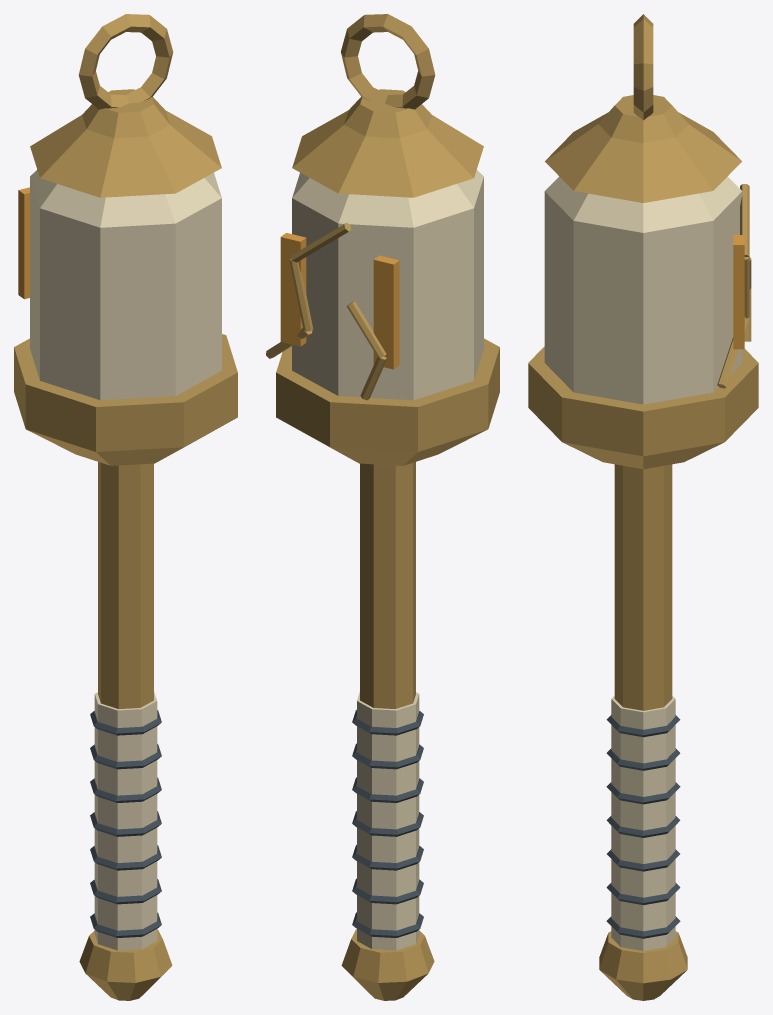
Rendered from DawnBearer.fbx.
3 renders of one model, left to right at view 1: azimuth 30°, elevation 25°; view 2: azimuth 150°, elevation 25°; view 3: azimuth 270°, elevation 25°, orthographic.
Visible parts, largest first — view 1: Legendary_DawnBearer; view 2: Legendary_DawnBearer; view 3: Legendary_DawnBearer.
Boxes of the visible parts, left/top/right/bottom form: Legendary_DawnBearer: left=14, top=14, right=237, bottom=1000; Legendary_DawnBearer: left=266, top=14, right=499, bottom=1000; Legendary_DawnBearer: left=528, top=14, right=758, bottom=1000.
Bounding box in the file's own units: 0.28 × 1.31 × 0.28.
